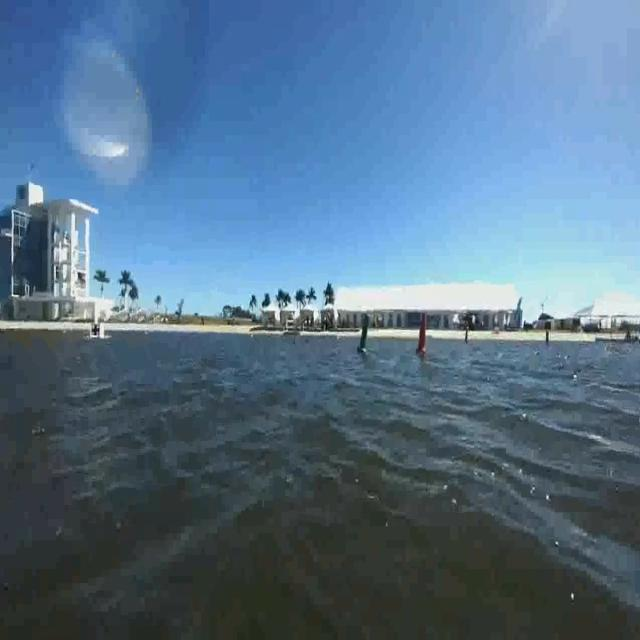green-column-buoy: (358, 313, 371, 356)
red-column-buoy: (416, 314, 431, 356)
